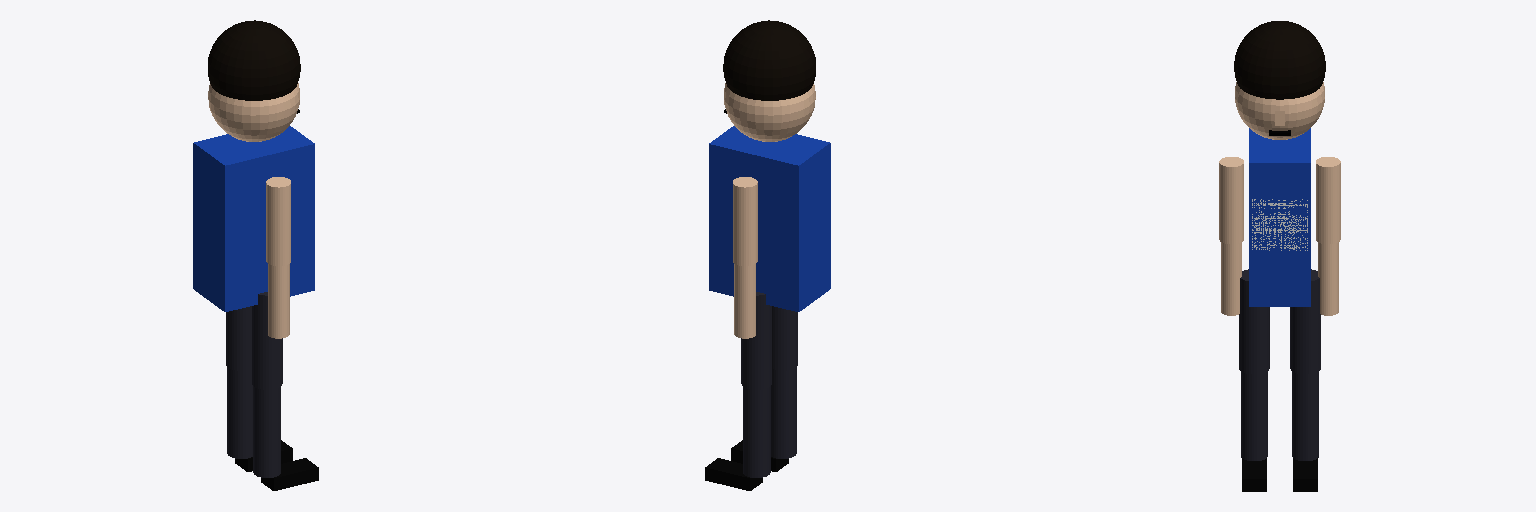
robot.urdf — human_robot:
<?xml version="1.0"?>
<robot name="human_robot">

  <material name="skin">
    <color rgba="0.92 0.78 0.66 1.0"/>
  </material>
  <material name="hair_dark">
    <color rgba="0.10 0.08 0.06 1.0"/>
  </material>
  <material name="shirt_blue">
    <color rgba="0.12 0.30 0.72 1.0"/>
  </material>
  <material name="shirt_white">
    <color rgba="0.95 0.95 0.95 1.0"/>
  </material>
  <material name="pants_black">
    <color rgba="0.18 0.18 0.22 1.0"/>
  </material>
  <material name="shoe_black">
    <color rgba="0.05 0.05 0.05 1.0"/>
  </material>
  <material name="eye_black">
    <color rgba="0.02 0.02 0.02 1.0"/>
  </material>
  <material name="hidden_base">
    <color rgba="0.5 0.5 0.5 0.05"/>
  </material>

  <link name="base_link">
    <collision>
      <origin xyz="0 0 0.05" rpy="0 0 0"/>
      <geometry>
        <box size="0.30 0.22 0.10"/>
      </geometry>
    </collision>
    <inertial>
      <origin xyz="0 0 0.05" rpy="0 0 0"/>
      <mass value="22.0"/>
      <inertia ixx="0.22" ixy="0.0" ixz="0.0" iyy="0.22" iyz="0.0" izz="0.22"/>
    </inertial>
  </link>

  <link name="torso">
    <visual>
      <origin xyz="0 0 0.14" rpy="0 0 0"/>
      <geometry>
        <box size="0.18 0.11 0.28"/>
      </geometry>
      <material name="shirt_blue"/>
    </visual>
    <visual>
      <origin xyz="0.085 0 0.16" rpy="0 0 0"/>
      <geometry>
        <box size="0.01 0.10 0.10"/>
      </geometry>
      <material name="shirt_white"/>
    </visual>
    <collision>
      <origin xyz="0 0 0.14" rpy="0 0 0"/>
      <geometry>
        <box size="0.18 0.11 0.28"/>
      </geometry>
    </collision>
    <inertial>
      <origin xyz="0 0 0.14" rpy="0 0 0"/>
      <mass value="3.0"/>
      <inertia ixx="0.03" ixy="0.0" ixz="0.0" iyy="0.03" iyz="0.0" izz="0.02"/>
    </inertial>
  </link>

  <joint name="base_to_torso" type="fixed">
    <parent link="base_link"/>
    <child link="torso"/>
    <origin xyz="0 0 0.08" rpy="0 0 0"/>
  </joint>

  <link name="head">
    <visual>
      <origin xyz="0 0 0.08" rpy="0 0 0"/>
      <geometry>
        <sphere radius="0.08"/>
      </geometry>
      <material name="skin"/>
    </visual>
    <visual>
      <origin xyz="0 0 0.135" rpy="0 0 0"/>
      <geometry>
        <sphere radius="0.081"/>
      </geometry>
      <material name="hair_dark"/>
    </visual>
    <visual>
      <origin xyz="0.060 0.028 0.095" rpy="0 0 0"/>
      <geometry>
        <sphere radius="0.008"/>
      </geometry>
      <material name="eye_black"/>
    </visual>
    <visual>
      <origin xyz="0.060 -0.028 0.095" rpy="0 0 0"/>
      <geometry>
        <sphere radius="0.008"/>
      </geometry>
      <material name="eye_black"/>
    </visual>
    <visual>
      <origin xyz="0.074 0 0.072" rpy="0 0 0"/>
      <geometry>
        <box size="0.016 0.018 0.028"/>
      </geometry>
      <material name="skin"/>
    </visual>
    <visual>
      <origin xyz="0.070 0 0.040" rpy="0 0 0"/>
      <geometry>
        <box size="0.020 0.040 0.006"/>
      </geometry>
      <material name="eye_black"/>
    </visual>
    <collision>
      <origin xyz="0 0 0.08" rpy="0 0 0"/>
      <geometry>
        <sphere radius="0.08"/>
      </geometry>
    </collision>
    <inertial>
      <origin xyz="0 0 0.08" rpy="0 0 0"/>
      <mass value="1.0"/>
      <inertia ixx="0.005" ixy="0.0" ixz="0.0" iyy="0.005" iyz="0.0" izz="0.005"/>
    </inertial>
  </link>

  <joint name="torso_to_head" type="fixed">
    <parent link="torso"/>
    <child link="head"/>
    <origin xyz="0 0 0.29" rpy="0 0 0"/>
  </joint>

  <link name="left_upper_arm">
    <visual>
      <origin xyz="0 0 -0.075" rpy="0 0 0"/>
      <geometry>
        <cylinder radius="0.022" length="0.15"/>
      </geometry>
      <material name="skin"/>
    </visual>
    <collision>
      <origin xyz="0 0 -0.075" rpy="0 0 0"/>
      <geometry>
        <cylinder radius="0.022" length="0.15"/>
      </geometry>
    </collision>
    <inertial>
      <origin xyz="0 0 -0.075" rpy="0 0 0"/>
      <mass value="0.3"/>
      <inertia ixx="0.001" ixy="0.0" ixz="0.0" iyy="0.001" iyz="0.0" izz="0.0005"/>
    </inertial>
  </link>

  <joint name="torso_to_left_shoulder" type="revolute">
    <parent link="torso"/>
    <child link="left_upper_arm"/>
    <origin xyz="0 0.085 0.24" rpy="0 0 0"/>
    <axis xyz="1 0 0"/>
    <limit lower="-0.6" upper="0.6" effort="10.0" velocity="1.0"/>
    <dynamics damping="12.0" friction="4.0"/>
  </joint>

  <link name="left_forearm">
    <visual>
      <origin xyz="0 0 -0.07" rpy="0 0 0"/>
      <geometry>
        <cylinder radius="0.019" length="0.14"/>
      </geometry>
      <material name="skin"/>
    </visual>
    <collision>
      <origin xyz="0 0 -0.07" rpy="0 0 0"/>
      <geometry>
        <cylinder radius="0.019" length="0.14"/>
      </geometry>
    </collision>
    <inertial>
      <origin xyz="0 0 -0.07" rpy="0 0 0"/>
      <mass value="0.25"/>
      <inertia ixx="0.0008" ixy="0.0" ixz="0.0" iyy="0.0008" iyz="0.0" izz="0.0004"/>
    </inertial>
  </link>

  <joint name="left_elbow" type="revolute">
    <parent link="left_upper_arm"/>
    <child link="left_forearm"/>
    <origin xyz="0 0 -0.15" rpy="0 0 0"/>
    <axis xyz="1 0 0"/>
    <limit lower="0.0" upper="1.0" effort="8.0" velocity="1.0"/>
    <dynamics damping="10.0" friction="4.0"/>
  </joint>

  <link name="right_upper_arm">
    <visual>
      <origin xyz="0 0 -0.075" rpy="0 0 0"/>
      <geometry>
        <cylinder radius="0.022" length="0.15"/>
      </geometry>
      <material name="skin"/>
    </visual>
    <collision>
      <origin xyz="0 0 -0.075" rpy="0 0 0"/>
      <geometry>
        <cylinder radius="0.022" length="0.15"/>
      </geometry>
    </collision>
    <inertial>
      <origin xyz="0 0 -0.075" rpy="0 0 0"/>
      <mass value="0.3"/>
      <inertia ixx="0.001" ixy="0.0" ixz="0.0" iyy="0.001" iyz="0.0" izz="0.0005"/>
    </inertial>
  </link>

  <joint name="torso_to_right_shoulder" type="revolute">
    <parent link="torso"/>
    <child link="right_upper_arm"/>
    <origin xyz="0 -0.085 0.24" rpy="0 0 0"/>
    <axis xyz="1 0 0"/>
    <limit lower="-0.6" upper="0.6" effort="10.0" velocity="1.0"/>
    <dynamics damping="12.0" friction="4.0"/>
  </joint>

  <link name="right_forearm">
    <visual>
      <origin xyz="0 0 -0.07" rpy="0 0 0"/>
      <geometry>
        <cylinder radius="0.019" length="0.14"/>
      </geometry>
      <material name="skin"/>
    </visual>
    <collision>
      <origin xyz="0 0 -0.07" rpy="0 0 0"/>
      <geometry>
        <cylinder radius="0.019" length="0.14"/>
      </geometry>
    </collision>
    <inertial>
      <origin xyz="0 0 -0.07" rpy="0 0 0"/>
      <mass value="0.25"/>
      <inertia ixx="0.0008" ixy="0.0" ixz="0.0" iyy="0.0008" iyz="0.0" izz="0.0004"/>
    </inertial>
  </link>

  <joint name="right_elbow" type="revolute">
    <parent link="right_upper_arm"/>
    <child link="right_forearm"/>
    <origin xyz="0 0 -0.15" rpy="0 0 0"/>
    <axis xyz="1 0 0"/>
    <limit lower="0.0" upper="1.0" effort="8.0" velocity="1.0"/>
    <dynamics damping="10.0" friction="4.0"/>
  </joint>

  <link name="left_thigh">
    <visual>
      <origin xyz="0 0 -0.09" rpy="0 0 0"/>
      <geometry>
        <cylinder radius="0.027" length="0.18"/>
      </geometry>
      <material name="pants_black"/>
    </visual>
    <collision>
      <origin xyz="0 0 -0.09" rpy="0 0 0"/>
      <geometry>
        <cylinder radius="0.027" length="0.18"/>
      </geometry>
    </collision>
    <inertial>
      <origin xyz="0 0 -0.09" rpy="0 0 0"/>
      <mass value="0.5"/>
      <inertia ixx="0.002" ixy="0.0" ixz="0.0" iyy="0.002" iyz="0.0" izz="0.0008"/>
    </inertial>
  </link>

  <joint name="left_hip" type="revolute">
    <parent link="torso"/>
    <child link="left_thigh"/>
    <origin xyz="0 0.045 0.02" rpy="0 0 0"/>
    <axis xyz="0 1 0"/>
    <limit lower="-0.35" upper="0.35" effort="16.0" velocity="1.0"/>
    <dynamics damping="18.0" friction="8.0"/>
  </joint>

  <link name="left_shin">
    <visual>
      <origin xyz="0 0 -0.085" rpy="0 0 0"/>
      <geometry>
        <cylinder radius="0.024" length="0.17"/>
      </geometry>
      <material name="pants_black"/>
    </visual>
    <visual>
      <origin xyz="0.045 0 -0.185" rpy="0 0 0"/>
      <geometry>
        <box size="0.09 0.045 0.025"/>
      </geometry>
      <material name="shoe_black"/>
    </visual>
    <collision>
      <origin xyz="0 0 -0.085" rpy="0 0 0"/>
      <geometry>
        <cylinder radius="0.024" length="0.17"/>
      </geometry>
    </collision>
    <collision>
      <origin xyz="0.045 0 -0.185" rpy="0 0 0"/>
      <geometry>
        <box size="0.09 0.045 0.025"/>
      </geometry>
    </collision>
    <inertial>
      <origin xyz="0 0 -0.085" rpy="0 0 0"/>
      <mass value="0.45"/>
      <inertia ixx="0.0015" ixy="0.0" ixz="0.0" iyy="0.0015" iyz="0.0" izz="0.0006"/>
    </inertial>
  </link>

  <joint name="left_knee" type="revolute">
    <parent link="left_thigh"/>
    <child link="left_shin"/>
    <origin xyz="0 0 -0.18" rpy="0 0 0"/>
    <axis xyz="0 1 0"/>
    <limit lower="0.0" upper="0.7" effort="14.0" velocity="1.0"/>
    <dynamics damping="16.0" friction="8.0"/>
  </joint>

  <link name="right_thigh">
    <visual>
      <origin xyz="0 0 -0.09" rpy="0 0 0"/>
      <geometry>
        <cylinder radius="0.027" length="0.18"/>
      </geometry>
      <material name="pants_black"/>
    </visual>
    <collision>
      <origin xyz="0 0 -0.09" rpy="0 0 0"/>
      <geometry>
        <cylinder radius="0.027" length="0.18"/>
      </geometry>
    </collision>
    <inertial>
      <origin xyz="0 0 -0.09" rpy="0 0 0"/>
      <mass value="0.5"/>
      <inertia ixx="0.002" ixy="0.0" ixz="0.0" iyy="0.002" iyz="0.0" izz="0.0008"/>
    </inertial>
  </link>

  <joint name="right_hip" type="revolute">
    <parent link="torso"/>
    <child link="right_thigh"/>
    <origin xyz="0 -0.045 0.02" rpy="0 0 0"/>
    <axis xyz="0 1 0"/>
    <limit lower="-0.35" upper="0.35" effort="16.0" velocity="1.0"/>
    <dynamics damping="18.0" friction="8.0"/>
  </joint>

  <link name="right_shin">
    <visual>
      <origin xyz="0 0 -0.085" rpy="0 0 0"/>
      <geometry>
        <cylinder radius="0.024" length="0.17"/>
      </geometry>
      <material name="pants_black"/>
    </visual>
    <visual>
      <origin xyz="0.045 0 -0.185" rpy="0 0 0"/>
      <geometry>
        <box size="0.09 0.045 0.025"/>
      </geometry>
      <material name="shoe_black"/>
    </visual>
    <collision>
      <origin xyz="0 0 -0.085" rpy="0 0 0"/>
      <geometry>
        <cylinder radius="0.024" length="0.17"/>
      </geometry>
    </collision>
    <collision>
      <origin xyz="0.045 0 -0.185" rpy="0 0 0"/>
      <geometry>
        <box size="0.09 0.045 0.025"/>
      </geometry>
    </collision>
    <inertial>
      <origin xyz="0 0 -0.085" rpy="0 0 0"/>
      <mass value="0.45"/>
      <inertia ixx="0.0015" ixy="0.0" ixz="0.0" iyy="0.0015" iyz="0.0" izz="0.0006"/>
    </inertial>
  </link>

  <joint name="right_knee" type="revolute">
    <parent link="right_thigh"/>
    <child link="right_shin"/>
    <origin xyz="0 0 -0.18" rpy="0 0 0"/>
    <axis xyz="0 1 0"/>
    <limit lower="0.0" upper="0.7" effort="14.0" velocity="1.0"/>
    <dynamics damping="16.0" friction="8.0"/>
  </joint>

  <ros2_control name="HumanRobotSystem" type="system">
    <hardware>
      <plugin>gazebo_ros2_control/GazeboSystem</plugin>
    </hardware>

    <joint name="torso_to_left_shoulder">
      <command_interface name="position"/>
      <state_interface name="position"/>
      <state_interface name="velocity"/>
    </joint>
    <joint name="left_elbow">
      <command_interface name="position"/>
      <state_interface name="position"/>
      <state_interface name="velocity"/>
    </joint>
    <joint name="torso_to_right_shoulder">
      <command_interface name="position"/>
      <state_interface name="position"/>
      <state_interface name="velocity"/>
    </joint>
    <joint name="right_elbow">
      <command_interface name="position"/>
      <state_interface name="position"/>
      <state_interface name="velocity"/>
    </joint>
    <joint name="left_hip">
      <command_interface name="position"/>
      <state_interface name="position"/>
      <state_interface name="velocity"/>
    </joint>
    <joint name="left_knee">
      <command_interface name="position"/>
      <state_interface name="position"/>
      <state_interface name="velocity"/>
    </joint>
    <joint name="right_hip">
      <command_interface name="position"/>
      <state_interface name="position"/>
      <state_interface name="velocity"/>
    </joint>
    <joint name="right_knee">
      <command_interface name="position"/>
      <state_interface name="position"/>
      <state_interface name="velocity"/>
    </joint>
  </ros2_control>

  <gazebo reference="base_link">
    <mu1>10.0</mu1>
    <mu2>10.0</mu2>
    <kp>200000.0</kp>
    <kd>4000.0</kd>
  </gazebo>

  <gazebo>
    <plugin name="human_planar_move" filename="libgazebo_ros_planar_move.so">
      <ros>
        <namespace>/</namespace>
        <remapping>cmd_vel:=/cmd_vel</remapping>
        <remapping>odom:=/odom</remapping>
      </ros>
      <update_rate>100</update_rate>
      <publish_rate>30</publish_rate>
      <publish_odom>true</publish_odom>
      <publish_odom_tf>true</publish_odom_tf>
      <odometry_frame>odom</odometry_frame>
      <robot_base_frame>base_link</robot_base_frame>
    </plugin>
  </gazebo>

  <gazebo>
    <plugin name="gazebo_ros2_control" filename="libgazebo_ros2_control.so"/>
  </gazebo>

</robot>

--- Render facts (derived) ---
Views: 3 orthographic renders of the robot side by side, from view 1: azimuth 30°, elevation 25°; view 2: azimuth 150°, elevation 25°; view 3: azimuth 270°, elevation 25°.
Robot: human_robot — 11 links, 10 joints (8 revolute, 2 fixed); root link base_link; default pose: all joints at 0.
Links seen in each view (by area): view 1: torso, head, right_shin, left_shin, right_thigh, right_upper_arm, right_forearm, left_thigh; view 2: torso, head, left_shin, right_shin, left_thigh, left_upper_arm, left_forearm, right_thigh; view 3: torso, head, left_shin, right_shin, left_thigh, right_thigh, left_upper_arm, right_upper_arm, left_forearm, right_forearm.
Boxes of the visible links, x1=… form: torso: x1=193, y1=126, x2=314, y2=311; head: x1=208, y1=20, x2=300, y2=141; right_shin: x1=253, y1=386, x2=318, y2=490; left_shin: x1=227, y1=367, x2=292, y2=471; right_thigh: x1=252, y1=292, x2=282, y2=389; right_upper_arm: x1=266, y1=177, x2=290, y2=265; right_forearm: x1=268, y1=264, x2=289, y2=338; left_thigh: x1=226, y1=306, x2=251, y2=370; torso: x1=709, y1=126, x2=830, y2=311; head: x1=723, y1=20, x2=815, y2=141; left_shin: x1=705, y1=386, x2=770, y2=490; right_shin: x1=731, y1=367, x2=796, y2=471; left_thigh: x1=741, y1=292, x2=771, y2=389; left_upper_arm: x1=733, y1=177, x2=757, y2=265; left_forearm: x1=734, y1=264, x2=755, y2=338; right_thigh: x1=772, y1=306, x2=797, y2=370; torso: x1=1249, y1=128, x2=1310, y2=306; head: x1=1234, y1=21, x2=1325, y2=139; left_shin: x1=1292, y1=371, x2=1318, y2=491; right_shin: x1=1241, y1=371, x2=1267, y2=491; left_thigh: x1=1290, y1=269, x2=1320, y2=374; right_thigh: x1=1239, y1=269, x2=1269, y2=374; left_upper_arm: x1=1316, y1=157, x2=1340, y2=243; right_upper_arm: x1=1219, y1=157, x2=1243, y2=243; left_forearm: x1=1318, y1=242, x2=1338, y2=315; right_forearm: x1=1221, y1=242, x2=1241, y2=315.
Bounding box of the posed robot: 0.18 × 0.214 × 0.8635 m (x, y, z).
Geometry: primitives only (box / cylinder / sphere), no mesh files.
